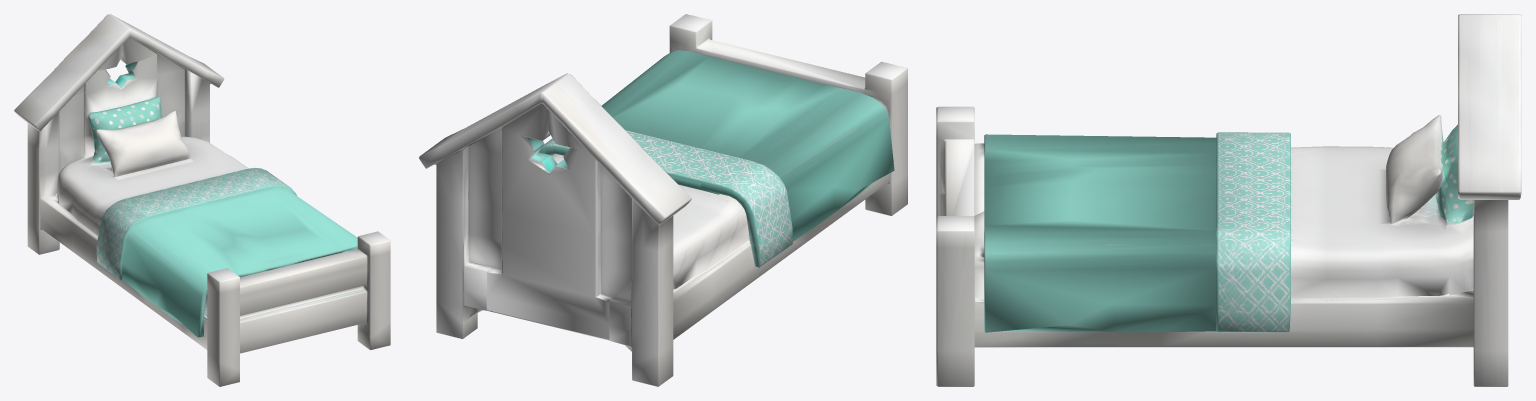
The model's file is Meshy_AI_Starry_House_Bed_0509134800_texture.fbx.
3 views of the same model, side by side, from view 1: azimuth 30°, elevation 25°; view 2: azimuth 150°, elevation 25°; view 3: azimuth 270°, elevation 25° (orthographic). The views are drawn at different scales.
Visible parts, largest first — view 1: Mesh_0; view 2: Mesh_0; view 3: Mesh_0.
Part boxes in pixels (bbox=[...]): Mesh_0: bbox=[14, 14, 390, 386]; Mesh_0: bbox=[419, 14, 907, 386]; Mesh_0: bbox=[936, 14, 1521, 386].
Size of the model in its own units: 106 by 112 by 191.
Materials: 1 (1 with a texture image).
